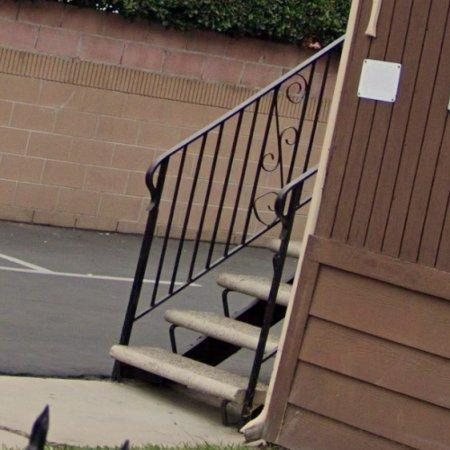stairs: (111, 275, 272, 418)
